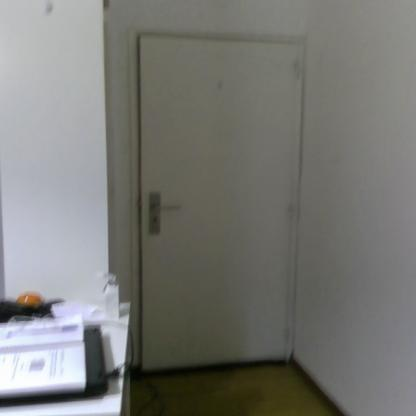door: (140, 37, 290, 366)
hinged: (288, 202, 298, 220), (296, 58, 304, 80), (284, 325, 293, 343)
lever: (153, 200, 185, 214)
